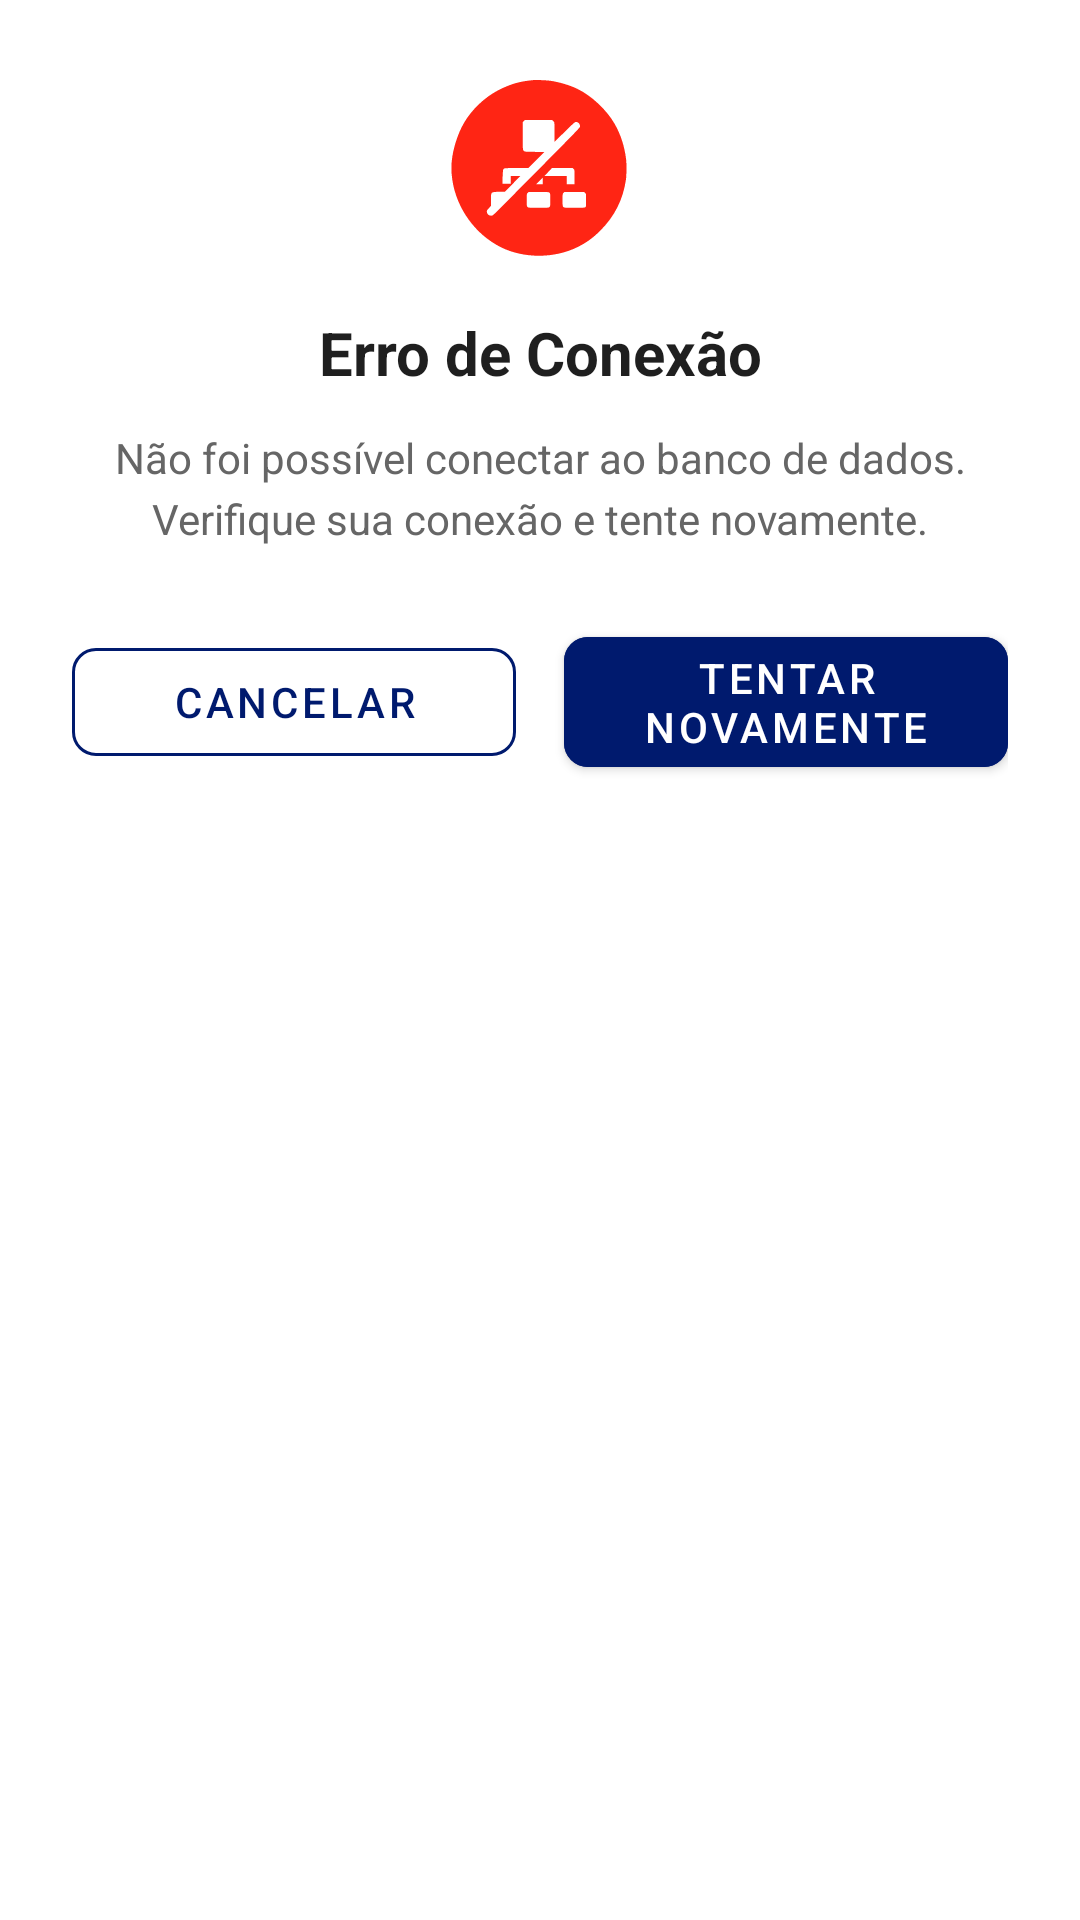

Where to tap for icons on this 1080 × 1920 app screen, as point (x, y):
Ícone de erro: point (539, 168)
